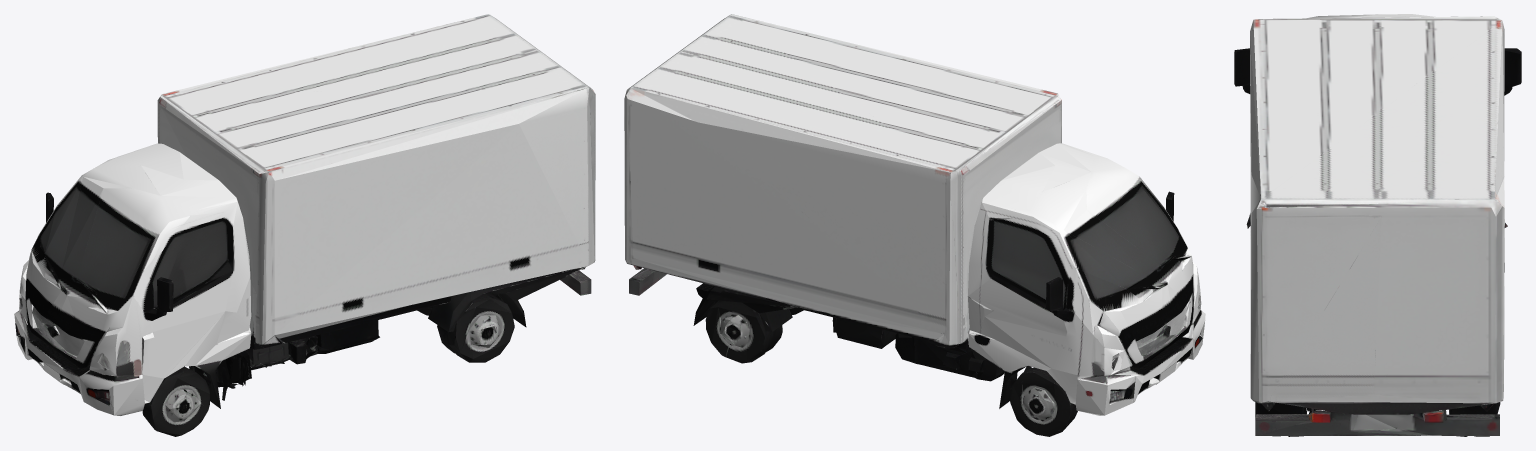
Rendered from parcel.glb.
3 renders of one model, left to right at view 1: azimuth 30°, elevation 25°; view 2: azimuth 150°, elevation 25°; view 3: azimuth 270°, elevation 25°, orthographic. The views are drawn at different scales.
Bounding box in the file's own units: 1.89 × 0.9168 × 0.8175.
1 material, 1 textured.
